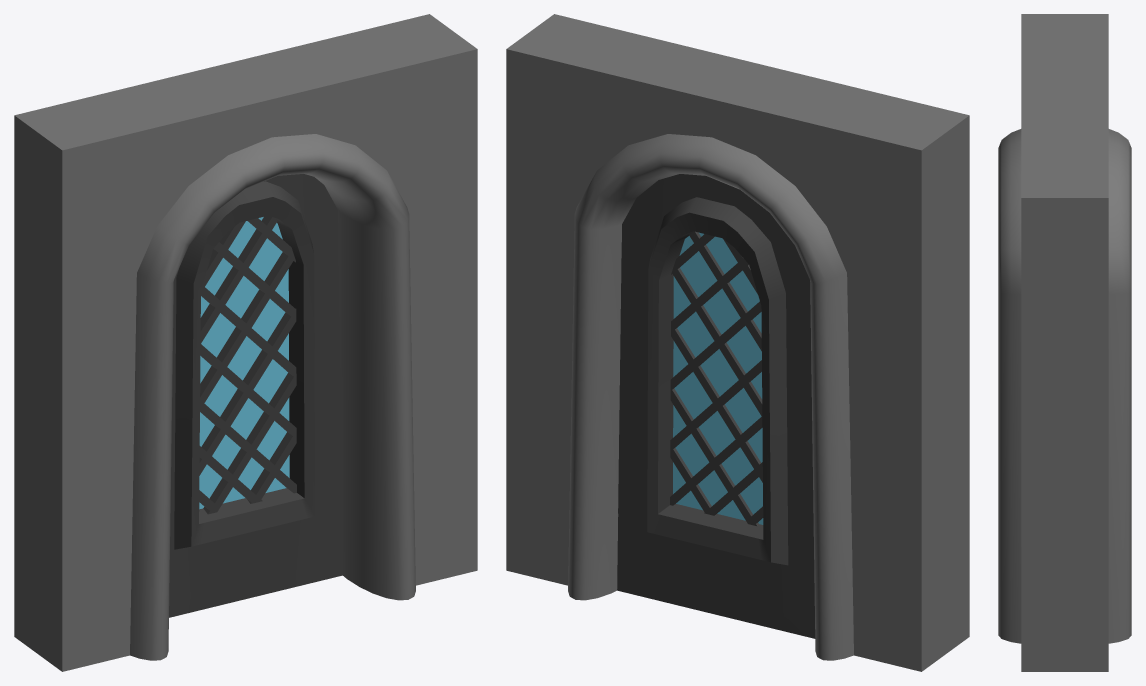
Rendered from SM_Wall_With_Arch_Window.fbx.
3 views of the same model, side by side, from view 1: azimuth 30°, elevation 25°; view 2: azimuth 150°, elevation 25°; view 3: azimuth 270°, elevation 25° (orthographic). The views are drawn at different scales.
Parts seen in each view (by area): view 1: SM_Wall_With_Arch_Closed_Window, pTorus3, SM_Window, Wall35, Wall36, Wall33, Wall37, Wall40, Wall41, Wall42, Wall34, Wall43 (+1 smaller); view 2: SM_Wall_With_Arch_Closed_Window, SM_Window, pTorus3, Wall35, Wall36, Wall33, Wall37, Wall40, Wall42, Wall41, Wall43, Wall34; view 3: SM_Wall_With_Arch_Closed_Window, pTorus3.
Boxes of the visible parts, <box> form: SM_Wall_With_Arch_Closed_Window: <box>14,14,477,671</box>; pTorus3: <box>130,134,415,660</box>; SM_Window: <box>169,174,342,617</box>; Wall35: <box>199,312,296,475</box>; Wall36: <box>200,252,294,409</box>; Wall33: <box>203,372,296,514</box>; Wall37: <box>200,215,277,343</box>; Wall40: <box>200,400,296,493</box>; Wall41: <box>200,344,296,435</box>; Wall42: <box>201,285,296,376</box>; Wall34: <box>247,432,296,503</box>; Wall43: <box>213,242,296,316</box>; SM_Wall_With_Arch_Closed_Window: <box>506,14,969,671</box>; SM_Window: <box>617,174,815,638</box>; pTorus3: <box>568,134,853,660</box>; Wall35: <box>671,324,762,482</box>; Wall36: <box>672,264,762,415</box>; Wall33: <box>670,388,758,526</box>; Wall37: <box>689,231,761,351</box>; Wall40: <box>670,416,762,505</box>; Wall42: <box>670,301,761,389</box>; Wall41: <box>670,360,761,451</box>; Wall43: <box>671,258,748,332</box>; Wall34: <box>670,445,715,515</box>; SM_Wall_With_Arch_Closed_Window: <box>1021,14,1108,671</box>; pTorus3: <box>998,129,1131,643</box>.
Size of the model in its own units: 500 by 600 by 153.
